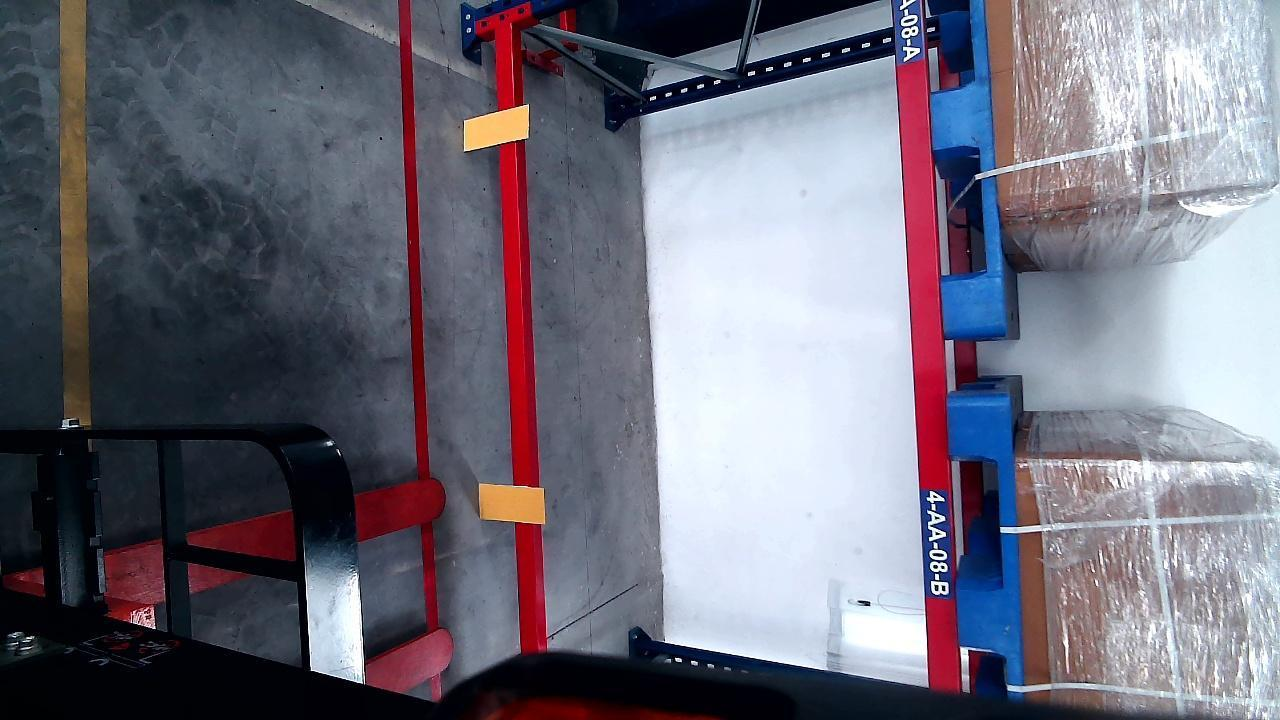h_rack: (890, 0, 957, 690), (496, 25, 542, 652)
orange_strip: (462, 105, 528, 151), (478, 483, 545, 524)
red_line: (398, 0, 434, 492)
small_pallet: (926, 0, 1009, 336), (951, 398, 1022, 694)
yellow_line: (58, 0, 92, 423)
